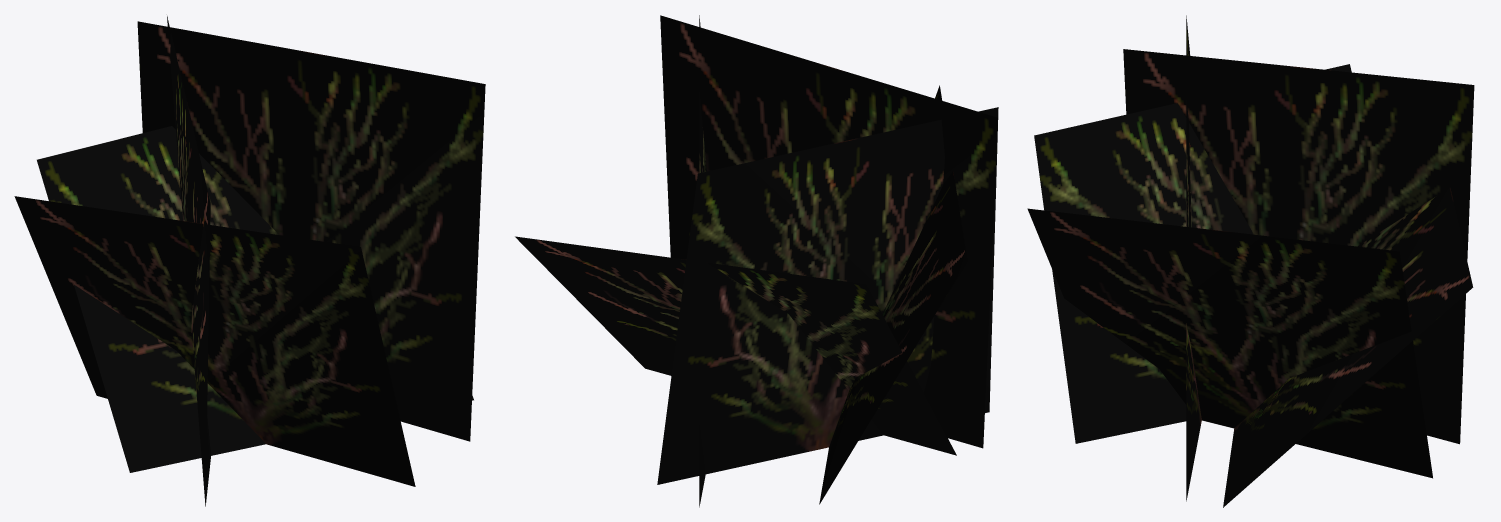
File: kugm_yc_41_01.FBX
3 renders of one model, left to right at view 1: azimuth 30°, elevation 25°; view 2: azimuth 150°, elevation 25°; view 3: azimuth 270°, elevation 25°, orthographic. The views are drawn at different scales.
Visible parts, largest first — view 1: kugm_yc_41_01; view 2: kugm_yc_41_01; view 3: kugm_yc_41_01.
Part boxes in pixels (left/top/right/bottom): kugm_yc_41_01: left=14, top=16, right=485, bottom=506; kugm_yc_41_01: left=515, top=15, right=998, bottom=507; kugm_yc_41_01: left=1027, top=15, right=1474, bottom=507.
Bounding box in the file's own units: 120 × 101 × 115.
